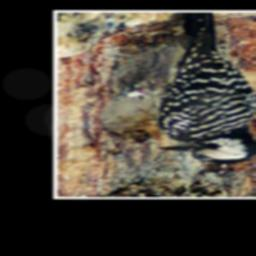Woodpecker: (106, 11, 256, 169)
